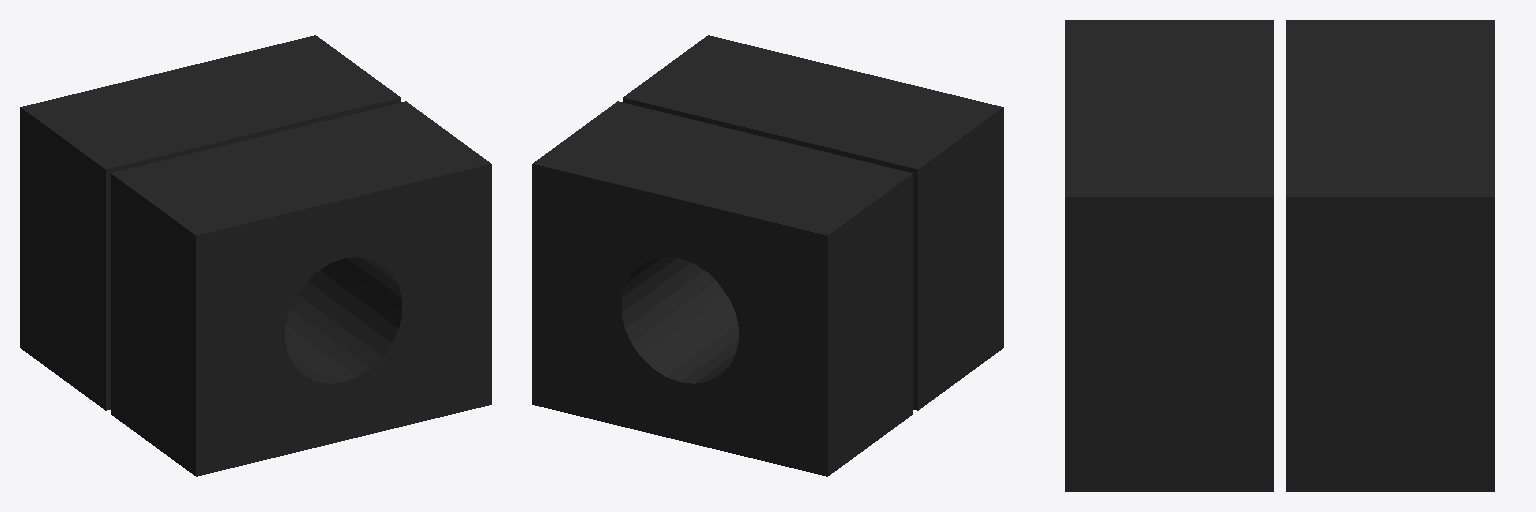
The robot description file, URDF, robot "meca_500_r3":
<?xml version="1.0" encoding="utf-8" ?>
<robot name="meca_500_r3">
    <material name="blue">
        <color rgba="0 0 0.8 1" />
    </material>
    <material name="gray">
        <color rgba="0.2 0.2 0.2 1" />
    </material>
    <material name="silver">
        <color rgba="0.75 0.75 0.75 1" />
    </material>
    <!-- world frame -->
    <link name="world" />
    <joint name="meca_in_world" type="fixed">
        <origin xyz="0 0 0.0" rpy="0 0 0" />
        <parent link="world" />
        <child link="meca_base_link" />
        <axis xyz="0 0 1" />
    </joint>
    <!-- Base link -->
    <link name="meca_base_link">
        <visual>
            <origin xyz="0 0 0" rpy="0 0 0" />
            <geometry>
                <mesh filename="package://mecaGripper_description/meshes/meca_500_r3_base.dae" />
            </geometry>
            <material name="silver" />
        </visual>
        <collision>
            <origin xyz="0 0 0" rpy="0 0 0" />
            <geometry>
                <mesh filename="package://mecaGripper_description/meshes/meca_500_r3_base_collision.stl" />
            </geometry>
        </collision>
        <inertial>
            <mass value="1.18" />
            <origin xyz="0 0 0" rpy="0 0 0" />
            <inertia ixx="0.031273897" iyy="0.053035205" izz="0.055685637" ixy="0.018937532" ixz="0.016539791" iyz="0.00978281"/>
        </inertial>
    </link>
    <!-- Joint 1 -->
    <link name="meca_axis_1_link">
        <visual>
            <origin xyz="0 0 0" rpy="0 0 0" />
            <geometry>
                <mesh filename="package://mecaGripper_description/meshes/meca_500_r3_j1.dae" />
            </geometry>
            <material name="silver" />
        </visual>
        <collision>
            <origin xyz="0 0 0" rpy="0 0 0" />
            <geometry>
                <mesh filename="package://mecaGripper_description/meshes/meca_500_r3_j1_collision.stl" />
            </geometry>
        </collision>
        <inertial>
            <mass value="0.70" />
            <origin xyz="0 0 0" rpy="0 0 0" />
            <inertia ixx="0.072402272" iyy="0.07237672" izz="0.072350521" ixy="0.036175099" ixz="0.036187713" iyz="0.036200974"/>
        </inertial>
    </link>
    <joint name="meca_axis_1_joint" type="revolute">
        <origin xyz="0.012498 0 0.091" rpy="0 0 0" />
        <parent link="meca_base_link" />
        <child link="meca_axis_1_link" />
        <axis xyz="0 0 1" />
        <limit effort="16.6" velocity="2.61799" lower="-3.05433" upper="3.05433"/>
        <dynamics damping="0.1" friction="0.5" />
    </joint>
    <!-- Joint 2 -->
    <link name="meca_axis_2_link">
        <visual>
            <origin xyz="0 0 0" rpy="0 0 0" />
            <geometry>
                <mesh filename="package://mecaGripper_description/meshes/meca_500_r3_j2.dae" />
            </geometry>
            <material name="silver" />
        </visual>
        <collision>
            <origin xyz="0 0 0" rpy="0 0 0" />
            <geometry>
                <mesh filename="package://mecaGripper_description/meshes/meca_500_r3_j2_collision.stl" />
            </geometry>
        </collision>
        <inertial>
            <mass value="1.48" />
            <origin xyz="0 0 0" rpy="0 0 0" />
            <inertia ixx="0.072171334" iyy="0.072145782" izz="0.072119583" ixy="0.03605963" ixz="0.036072244" iyz="0.036085505"/>
        </inertial>
    </link>
    <joint name="meca_axis_2_joint" type="revolute">
        <origin xyz="0 0 0.044" rpy="0 0 0" />
        <parent link="meca_axis_1_link" />
        <child link="meca_axis_2_link" />
        <axis xyz="0 1 0" />
        <limit effort="16.6" velocity="2.61799" lower="-1.22173048" upper="1.5708" />
        <dynamics damping="0.1" friction="0.5" />
    </joint>
    <!-- Joint 3 -->
    <link name="meca_axis_3_link">
        <visual>
            <origin xyz="0 0 0" rpy="0 0 0" />
            <geometry>
                <mesh filename="package://mecaGripper_description/meshes/meca_500_r3_j3.dae" />
            </geometry>
            <material name="silver" />
        </visual>
        <collision>
            <origin xyz="0 0 0" rpy="0 0 0" />
            <geometry>
                <mesh filename="package://mecaGripper_description/meshes/meca_500_r3_j3_collision.stl" />
            </geometry>
        </collision>
        <inertial>
            <mass value="0.66" />
            <origin xyz="0 0 0" rpy="0 0 0" />
            <inertia ixx="0.07400687" iyy="0.07396644" izz="0.07589157" ixy="0.03794562" ixz="0.03667223" iyz="0.03668226"/>
        </inertial>
    </link>
    <joint name="meca_axis_3_joint" type="revolute">
        <origin xyz="0 0 0.135" rpy="0 0 0" />
        <parent link="meca_axis_2_link" />
        <child link="meca_axis_3_link" />
        <axis xyz="0 1 0" />
        <limit effort="16.6" velocity="3.14159" lower="-2.35619" upper="1.22173048" />
        <dynamics damping="0.1" friction="0.5" />
    </joint>
    <!-- Joint 4 -->
    <link name="meca_axis_4_link">
        <visual>
            <origin xyz="0 0 0" rpy="0 0 0" />
            <geometry>
                <mesh filename="package://mecaGripper_description/meshes/meca_500_r3_j4.dae" />
            </geometry>
            <material name="silver" />
        </visual>
        <collision>
            <origin xyz="0 0 0" rpy="0 0 0" />
            <geometry>
                <mesh filename="package://mecaGripper_description/meshes/meca_500_r3_j4_collision.stl" />
            </geometry>
        </collision>
        <inertial>
            <mass value="0.27" />
            <origin xyz="0 0 0" rpy="0 0 0" />
            <inertia ixx="0.07340494" iyy="0.07332602" izz="0.07328559" ixy="0.03664215" ixz="0.03666156" iyz="0.03670231"/>
        </inertial>
    </link>
    <joint name="meca_axis_4_joint" type="revolute">
        <origin xyz="0 0 0.038" rpy="0 0 0" />
        <parent link="meca_axis_3_link" />
        <child link="meca_axis_4_link" />
        <axis xyz="1 0 0" />
        <limit effort="2.5" velocity="5.23599" lower="-2.96706" upper="2.96706" />
        <dynamics damping="0.1" friction="0.5" />
    </joint>
    <!-- Joint 5 -->
    <link name="meca_axis_5_link">
        <visual>
            <origin xyz="0 0 0" rpy="0 0 0" />
            <geometry>
                <mesh filename="package://mecaGripper_description/meshes/meca_500_r3_j5.dae" />
            </geometry>
            <material name="silver" />
        </visual>
        <collision>
            <origin xyz="0 0 0" rpy="0 0 0" />
            <geometry>
                <mesh filename="package://mecaGripper_description/meshes/meca_500_r3_j5_collision.stl" />
            </geometry>
        </collision>
        <inertial>
            <mass value="0.29" />
            <origin xyz="0 0 0" rpy="0 0 0" />
            <inertia ixx="0.07249025" iyy="0.07246017" izz="0.07242944" ixy="0.03621456" ixz="0.03622944" iyz="0.03624496"/>
        </inertial>
    </link>
    <joint name="meca_axis_5_joint" type="revolute">
        <origin xyz="0.12 0 0" rpy="0 0 0" />
        <parent link="meca_axis_4_link" />
        <child link="meca_axis_5_link" />
        <axis xyz="0 1 0" />
        <limit effort="2.5" velocity="5.23599" lower="-2.00713" upper="2.00713" />
        <dynamics damping="0.1" friction="0.5" />
    </joint>
    <!-- Joint 6 -->
    <link name="meca_axis_6_link">
        <visual>
            <origin xyz="0 0 0" rpy="0 0 0" />
            <geometry>
                <mesh filename="package://mecaGripper_description/meshes/meca_500_r3_j6.dae" />
            </geometry>
            <material name="silver" />
        </visual>
        <collision>
            <origin xyz="0 0 0" rpy="0 0 0" />
            <geometry>
                <mesh filename="package://mecaGripper_description/meshes/meca_500_r3_j6_collision.stl" />
            </geometry>
        </collision>
        <inertial>
            <mass value="0.01" />
            <origin xyz="0 0 0" rpy="0 0 0" />
            <inertia ixx="0.07382898" iyy="0.0733836" izz="0.07383577" ixy="0.03679999" ixz="0.03666835" iyz="0.03666835"/>
        </inertial>
    </link>
    <joint name="meca_axis_6_joint" type="revolute">
        <origin xyz="0.07 0 0" rpy="0 0 0" />
        <parent link="meca_axis_5_link" />
        <child link="meca_axis_6_link" />
        <axis xyz="1 0 0" />
        <limit effort="1.5" velocity="8.72665" lower="-3.14159" upper="3.14159" />
        <dynamics damping="0.1" friction="0.05" />
    </joint>
    <!-- Gripper-->
    <link name="meca_hand">
        <visual>
            <origin xyz="0 0 0" rpy="-1.5708 0 -1.5708" />
            <geometry>
                <mesh filename="package://mecaGripper_description/meshes/updated_meshes/modified_25LS_new.stl" scale="0.001 0.001 0.001" />
            </geometry>
            <material name="gray" />
        </visual>
        <collision>
            <origin xyz="0 0 0" rpy="-1.5708 0 -1.5708" />
            <geometry>
                <mesh filename="package://mecaGripper_description/meshes/updated_meshes/modified_25LS_col.stl" scale="0.001 0.001 0.001" />
            </geometry>
        </collision>
        <inertial>
            <mass value="0.135" />
            <origin xyz="0 0 0" rpy="0 0 0" />
            <inertia ixx="0.07446648" iyy="0.07443317" izz="0.07439921" ixy="0.03719944" ixz="0.03721594" iyz="0.03723308"/>
        </inertial>
    </link>
    <joint name="meca_hand_joint" type="fixed">
        <parent link="meca_axis_6_link" />
        <child link="meca_hand" />
        <origin xyz="0 0 0" rpy="0 0 0" />
    </joint>
    <!-- Fingers-->
    <link name="leftfinger">
        <visual>
            <origin xyz="0 0 0" rpy="-1.5708 0 -1.5708" />
            <geometry>
                <mesh filename="package://mecaGripper_description/meshes/updated_meshes/left_finger.stl" scale="0.001 0.001 0.001" />
            </geometry>
            <material name="gray" />
        </visual>
        <collision>
            <origin xyz="0 0 0" rpy="-1.5708 0 -1.5708" />
            <geometry>
                <mesh filename="package://mecaGripper_description/meshes/updated_meshes/left_finger.stl" scale="0.001 0.001 0.001" />
            </geometry>
        </collision>
        <inertial>
            <mass value="0.004" />
            <origin xyz="0 0 0" rpy="0 0 0" />
            <inertia ixx="0.07079864" iyy="0.07079832" izz="0.07079735" ixy="0.03539851" ixz="0.03539851" iyz="0.03539916"/>
        </inertial>
    </link>
    <joint name="leftfinger_joint" type="prismatic">
        <parent link="meca_hand" />
        <child link="leftfinger" />
        <origin xyz="0 0 0" rpy="0 0 0" />
        <axis xyz="0 1 0" />
        <limit effort="20" velocity="0.05" lower="0.0" upper="0.025"/>
    </joint>
    <link name="rightfinger">
        <visual>
            <origin xyz="0 0 0" rpy="-1.5708 0 -1.5708" />
            <geometry>
                <mesh filename="package://mecaGripper_description/meshes/updated_meshes/right_finger.stl" scale="0.001 0.001 0.001" />
            </geometry>
            <material name="gray" />
        </visual>
        <collision>
            <origin xyz="0 0 0" rpy="-1.5708 0 -1.5708" />
            <geometry>
                <mesh filename="package://mecaGripper_description/meshes/updated_meshes/right_finger.stl" scale="0.001 0.001 0.001" />
            </geometry>
        </collision>
        <inertial>
            <mass value="0.004" />
            <origin xyz="0 0 0" rpy="0 0 0" />
            <inertia ixx="0.07079864" iyy="0.07079832" izz="0.07079735" ixy="0.03539851" ixz="0.03539851" iyz="0.03539916"/>
        </inertial>
    </link>
    <joint name="rightfinger_joint" type="prismatic">
        <parent link="meca_hand" />
        <child link="rightfinger" />
        <origin xyz="0 0 0" rpy="0 0 0" />
        <axis xyz="0 -1 0" />
        <limit effort="20" velocity="0.05" lower="0.0" upper="0.025"/>
    </joint>
    <transmission name="trans_meca_axis_1_joint">
        <type>transmission_interface/SimpleTransmission</type>
        <joint name="meca_axis_1_joint">
            <hardwareInterface>hardware_interface/EffortJointInterface</hardwareInterface>
        </joint>
        <actuator name="meca_axis_1_joint_motor">
            <hardwareInterface>hardware_interface/EffortJointInterface</hardwareInterface>
            <mechanicalReduction>1</mechanicalReduction>
        </actuator>
    </transmission>
    <transmission name="trans_meca_axis_2_joint">
        <type>transmission_interface/SimpleTransmission</type>
        <joint name="meca_axis_2_joint">
            <hardwareInterface>hardware_interface/EffortJointInterface</hardwareInterface>
        </joint>
        <actuator name="meca_axis_2_joint_motor">
            <hardwareInterface>hardware_interface/EffortJointInterface</hardwareInterface>
            <mechanicalReduction>1</mechanicalReduction>
        </actuator>
    </transmission>
    <transmission name="trans_meca_axis_3_joint">
        <type>transmission_interface/SimpleTransmission</type>
        <joint name="meca_axis_3_joint">
            <hardwareInterface>hardware_interface/EffortJointInterface</hardwareInterface>
        </joint>
        <actuator name="meca_axis_3_joint_motor">
            <hardwareInterface>hardware_interface/EffortJointInterface</hardwareInterface>
            <mechanicalReduction>1</mechanicalReduction>
        </actuator>
    </transmission>
    <transmission name="trans_meca_axis_4_joint">
        <type>transmission_interface/SimpleTransmission</type>
        <joint name="meca_axis_4_joint">
            <hardwareInterface>hardware_interface/EffortJointInterface</hardwareInterface>
        </joint>
        <actuator name="meca_axis_4_joint_motor">
            <hardwareInterface>hardware_interface/EffortJointInterface</hardwareInterface>
            <mechanicalReduction>1</mechanicalReduction>
        </actuator>
    </transmission>
    <transmission name="trans_meca_axis_5_joint">
        <type>transmission_interface/SimpleTransmission</type>
        <joint name="meca_axis_5_joint">
            <hardwareInterface>hardware_interface/EffortJointInterface</hardwareInterface>
        </joint>
        <actuator name="meca_axis_5_joint_motor">
            <hardwareInterface>hardware_interface/EffortJointInterface</hardwareInterface>
            <mechanicalReduction>1</mechanicalReduction>
        </actuator>
    </transmission>
    <transmission name="trans_meca_axis_6_joint">
        <type>transmission_interface/SimpleTransmission</type>
        <joint name="meca_axis_6_joint">
            <hardwareInterface>hardware_interface/EffortJointInterface</hardwareInterface>
        </joint>
        <actuator name="meca_axis_6_joint_motor">
            <hardwareInterface>hardware_interface/EffortJointInterface</hardwareInterface>
            <mechanicalReduction>1</mechanicalReduction>
        </actuator>
    </transmission>
    <transmission name="trans_leftfinger_joint">
        <type>transmission_interface/SimpleTransmission</type>
        <joint name="leftfinger_joint">
            <hardwareInterface>hardware_interface/EffortJointInterface</hardwareInterface>
        </joint>
        <actuator name="leftfinger_joint_motor">
            <hardwareInterface>hardware_interface/EffortJointInterface</hardwareInterface>
            <mechanicalReduction>1</mechanicalReduction>
        </actuator>
    </transmission>
    <transmission name="trans_rightfinger_joint">
        <type>transmission_interface/SimpleTransmission</type>
        <joint name="rightfinger_joint">
            <hardwareInterface>hardware_interface/EffortJointInterface</hardwareInterface>
        </joint>
        <actuator name="rightfinger_joint_motor">
            <hardwareInterface>hardware_interface/EffortJointInterface</hardwareInterface>
            <mechanicalReduction>1</mechanicalReduction>
        </actuator>
    </transmission>
    <gazebo>
        <plugin name="gazebo_ros_control" filename="libgazebo_ros_control.so">
            <robotNamespace>/</robotNamespace>
        </plugin>
    </gazebo>
</robot>

--- Facts derived from the render (not from the file) ---
The picture shows the robot from 3 angles, left to right: view 1: azimuth 30°, elevation 25°; view 2: azimuth 150°, elevation 25°; view 3: azimuth 270°, elevation 25°; orthographic projection.
Model meca_500_r3 with 11 links and 10 joints (6 revolute, 2 prismatic, 2 fixed), rooted at world, posed all joints at 0.
Visible links, largest first — view 1: rightfinger, leftfinger; view 2: leftfinger, rightfinger; view 3: leftfinger, rightfinger.
Boxes of the visible links, x1,y1,x2,y2 form: rightfinger: (111,101,491,476); leftfinger: (20,35,400,410); leftfinger: (532,101,912,476); rightfinger: (623,35,1003,410); leftfinger: (1286,20,1494,491); rightfinger: (1065,20,1273,491).
Bounding box of the posed robot: 0.01 × 0.0103 × 0.0078 m (x, y, z).
2 mesh visuals loaded from 10 distinct referenced files (2 binary STL); not drawn: 8 (reference not matched to a file when rendering).